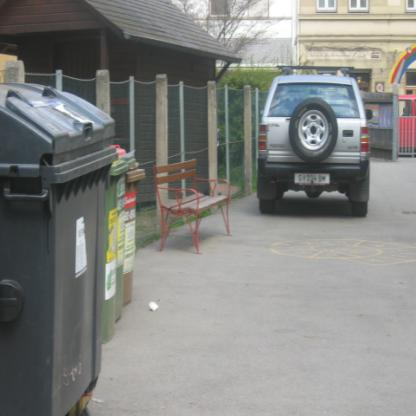car: (259, 75, 375, 217)
